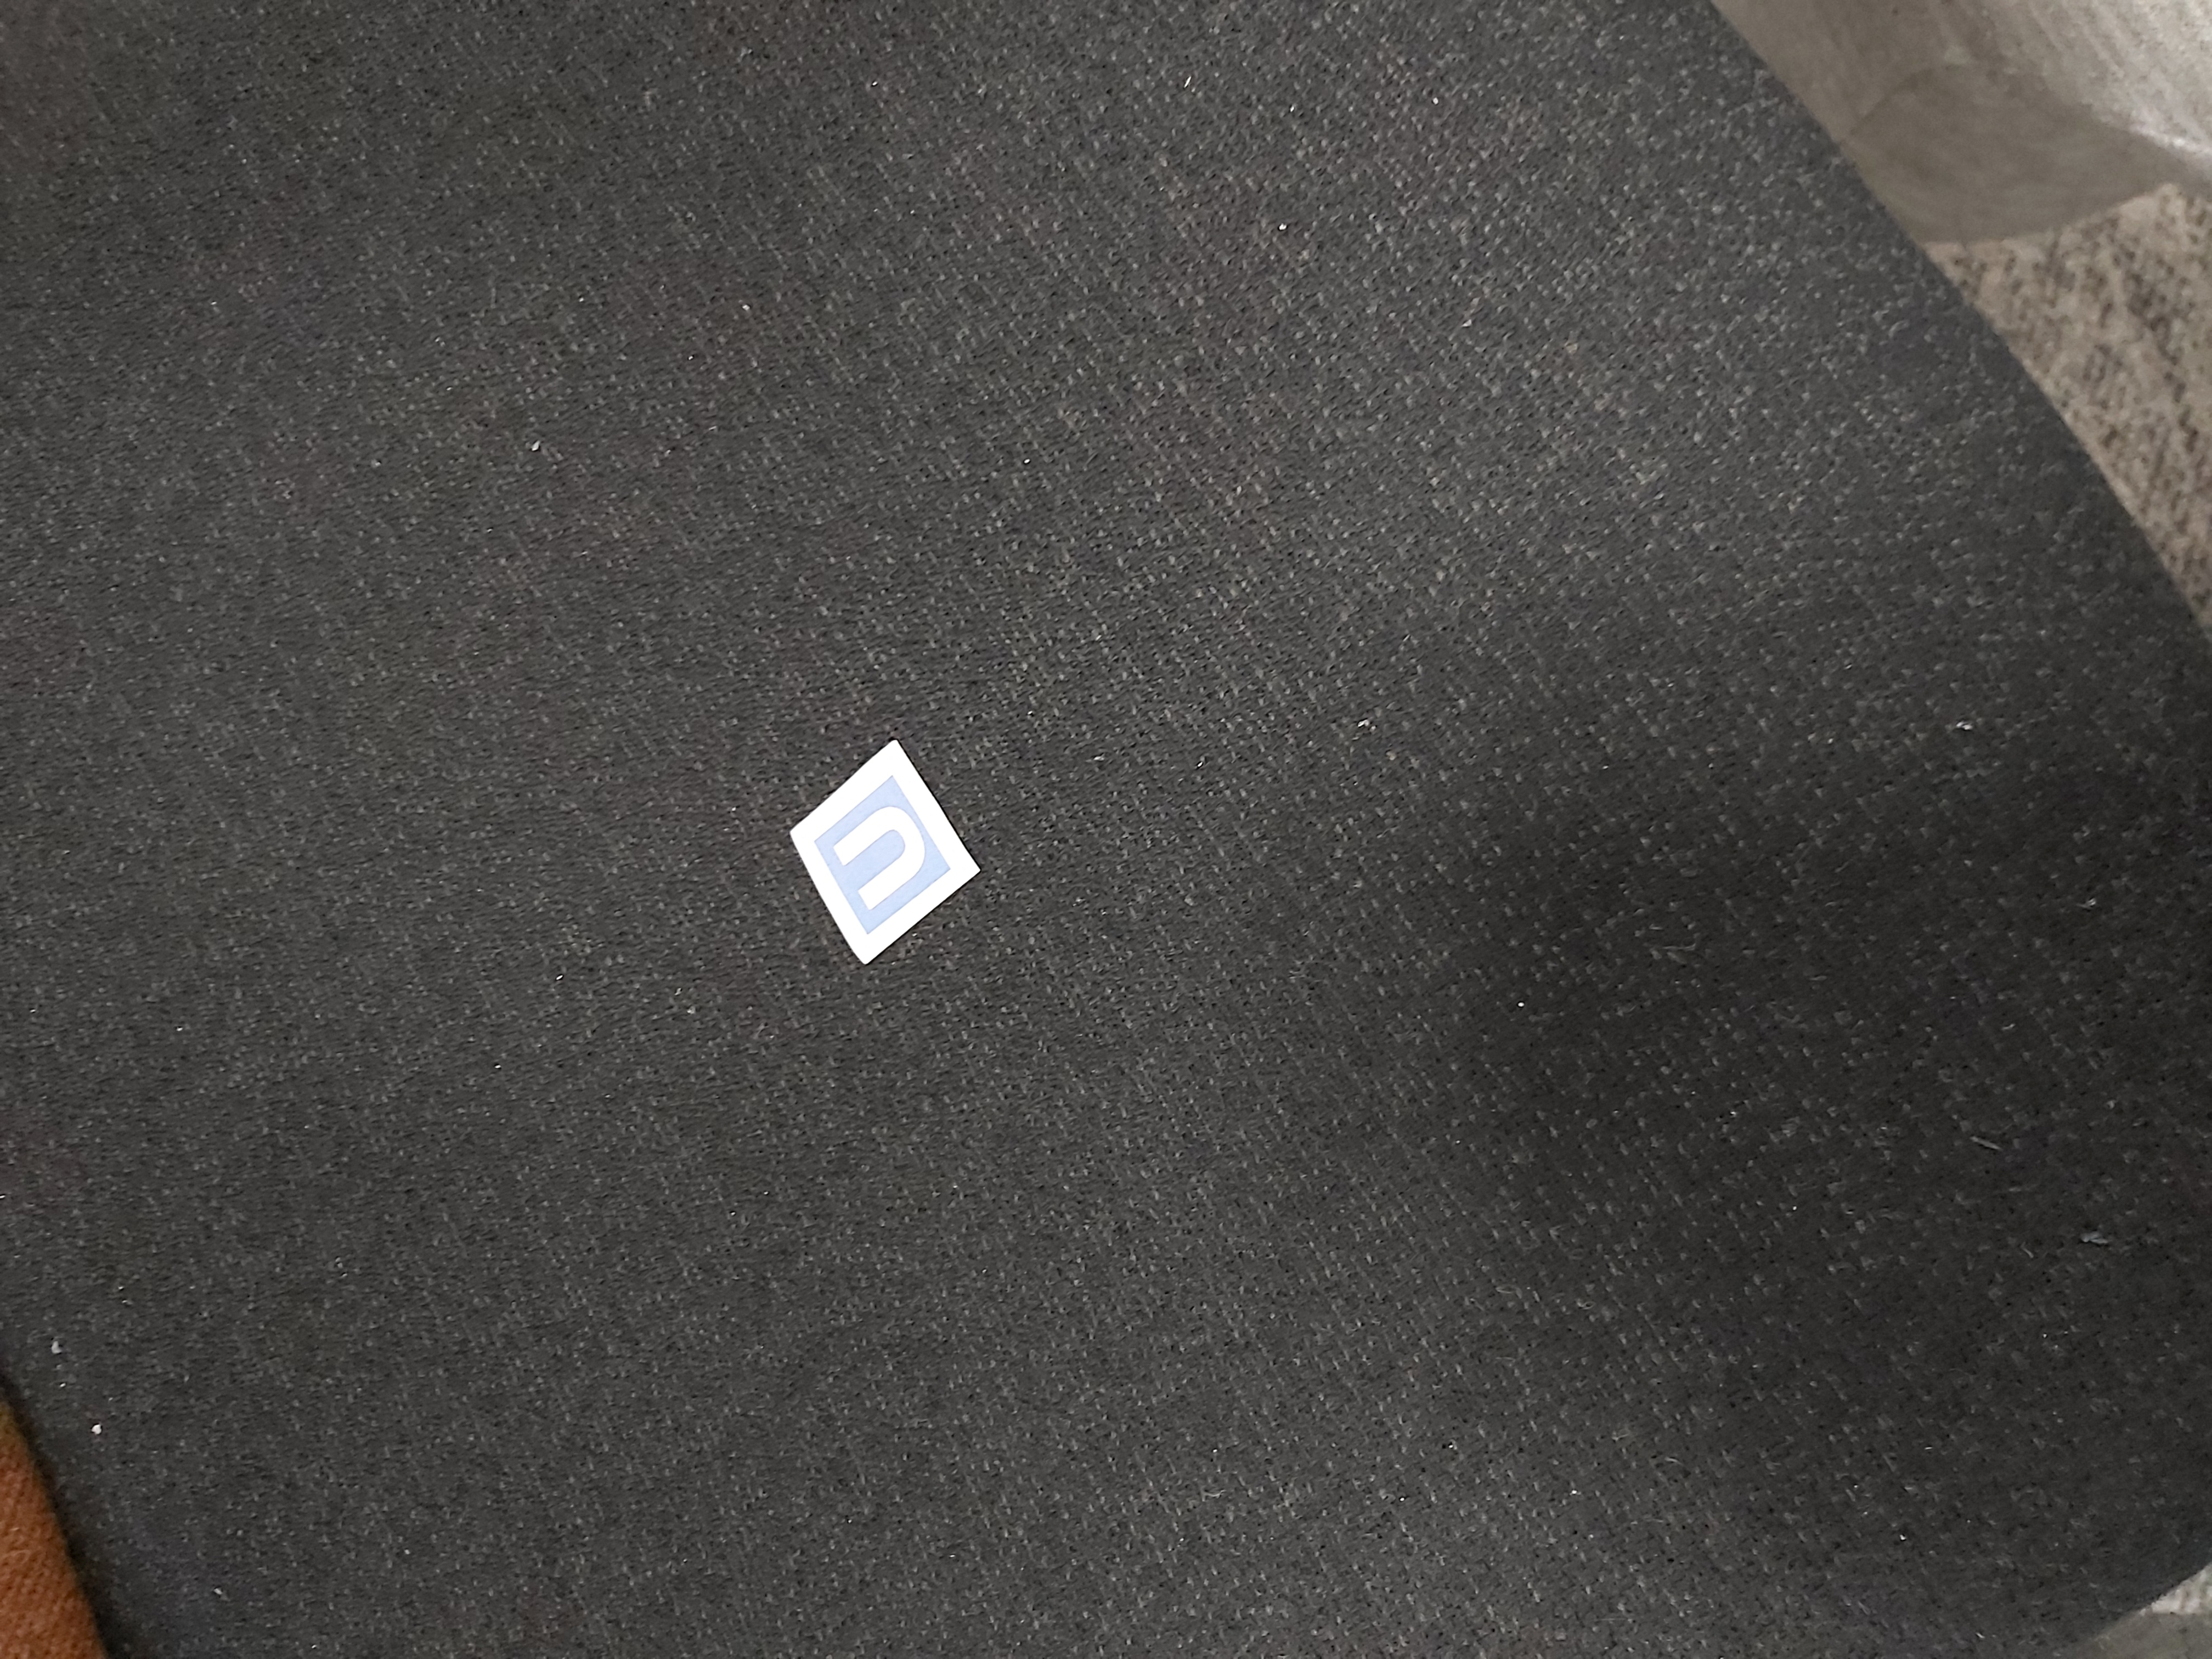blue marker: (789, 742, 988, 976)
